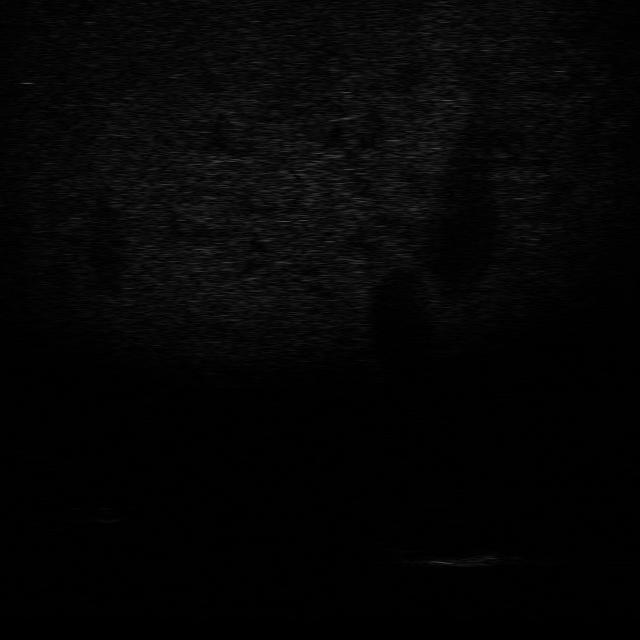ball: (81, 500, 134, 524)
metal bucket: (426, 546, 514, 572)
tyre: (364, 520, 441, 552)
